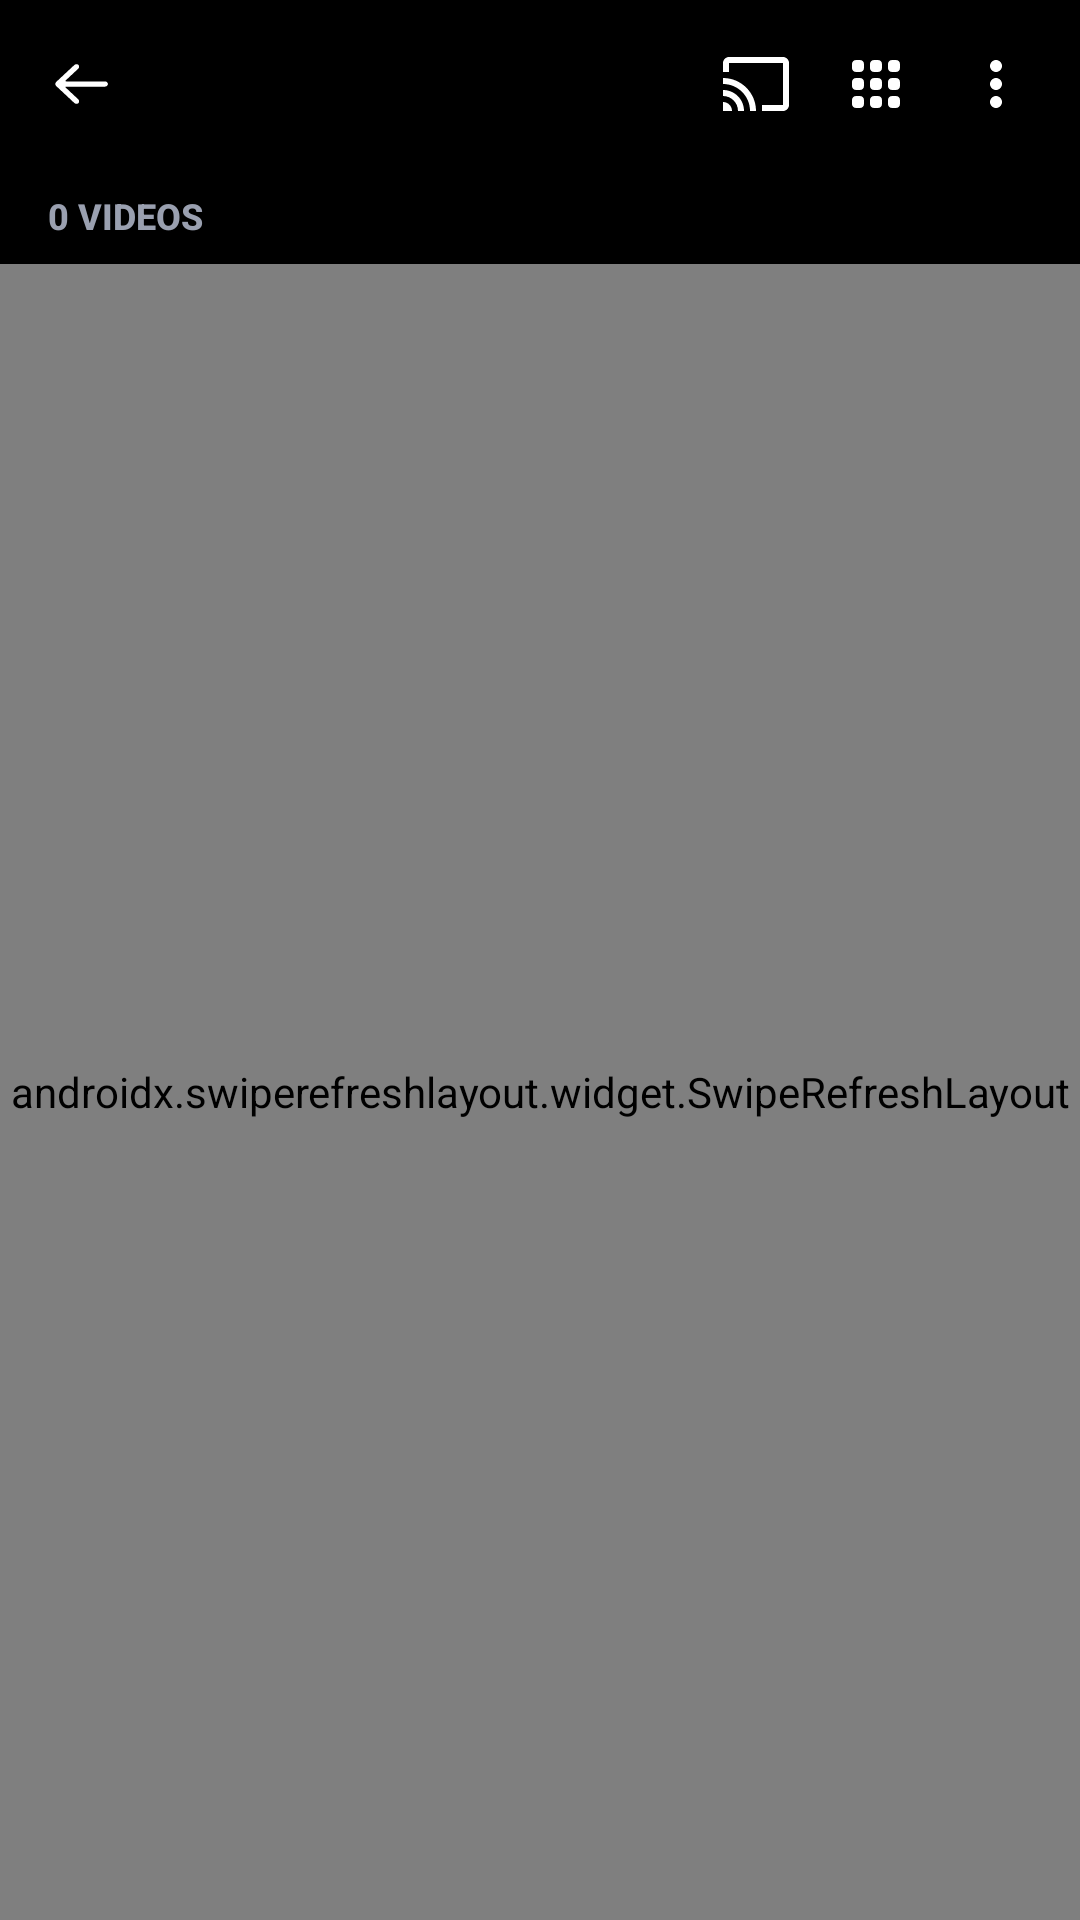

Icons on this 1080px x 1920px Android screen, each with the point to tap as point (x, y):
back: point (81, 84)
cast: point (756, 84)
layout grid menu: point (876, 84)
more: point (996, 84)
